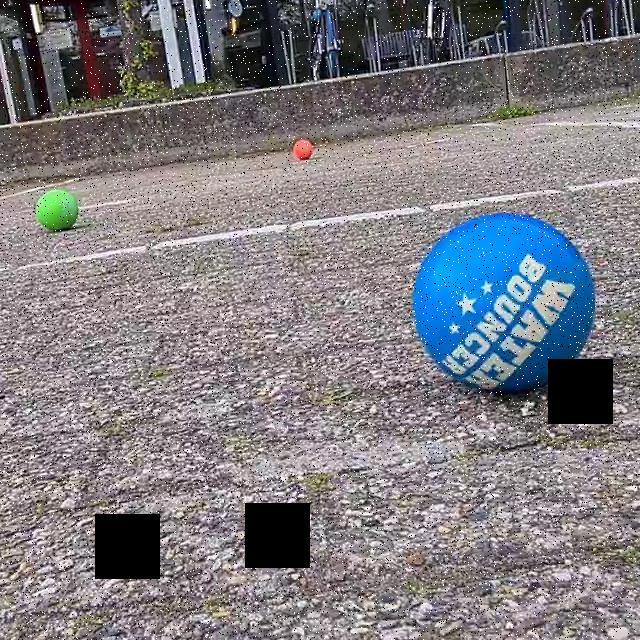ball: (35, 187, 81, 237), (290, 138, 314, 164)
